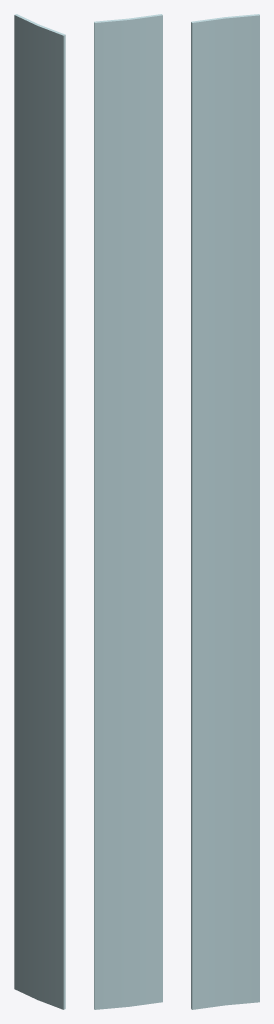
Rendered from SM_AdvancedFluidBuffer_Glass.fbx.
3 views of the same model, side by side, from view 1: azimuth 90°, elevation 25°; view 2: azimuth 150°, elevation 25°; view 3: azimuth 330°, elevation 25° (orthographic).
Visible parts, largest first — view 1: SM_OverflowTank_Glass; view 2: SM_OverflowTank_Glass; view 3: SM_OverflowTank_Glass.
Part boxes in pixels (x1,y1,x2,y2): SM_OverflowTank_Glass: (14,14,65,1009); SM_OverflowTank_Glass: (94,14,162,1009); SM_OverflowTank_Glass: (191,14,259,1009).
Bounding box in the file's own units: 30.97 × 30.97 × 646.
